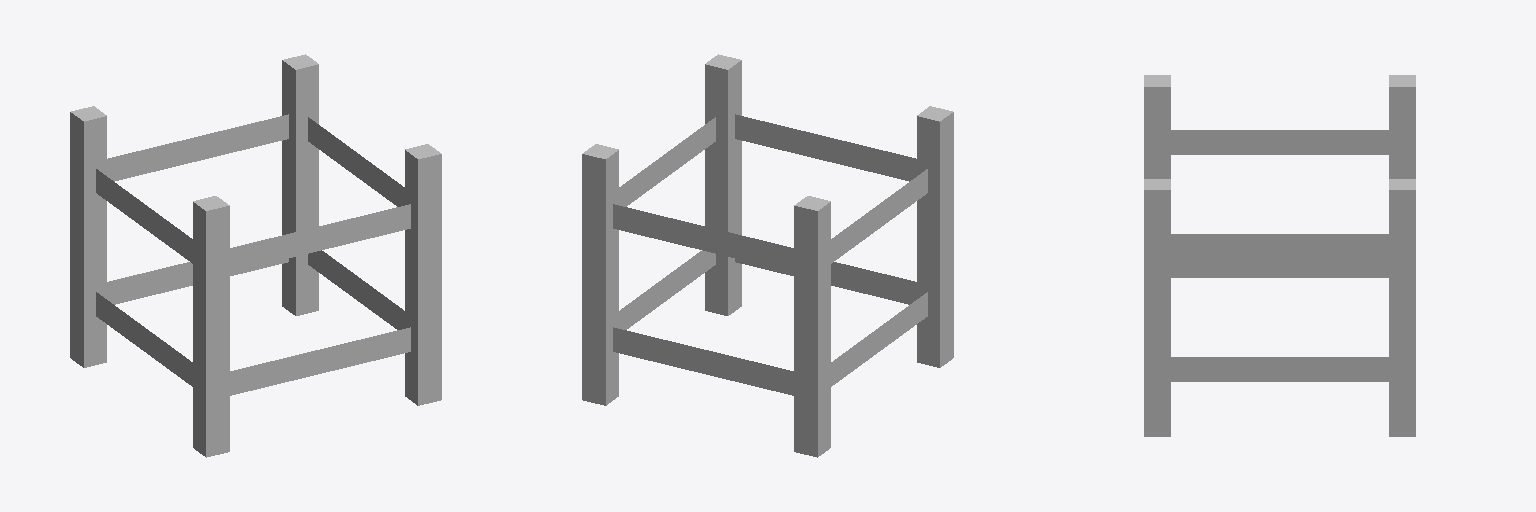
File: structure.obj
3 renders of one model, left to right at view 1: azimuth 30°, elevation 25°; view 2: azimuth 150°, elevation 25°; view 3: azimuth 270°, elevation 25°, orthographic.
Parts seen in each view (by area): view 1: structure; view 2: structure; view 3: structure.
Part boxes in pixels (x1,y1,x2,y2): structure: (70,54,441,457); structure: (582,54,953,457); structure: (1144,75,1415,436).
Bounding box in the file's own units: 1 × 1 × 1.